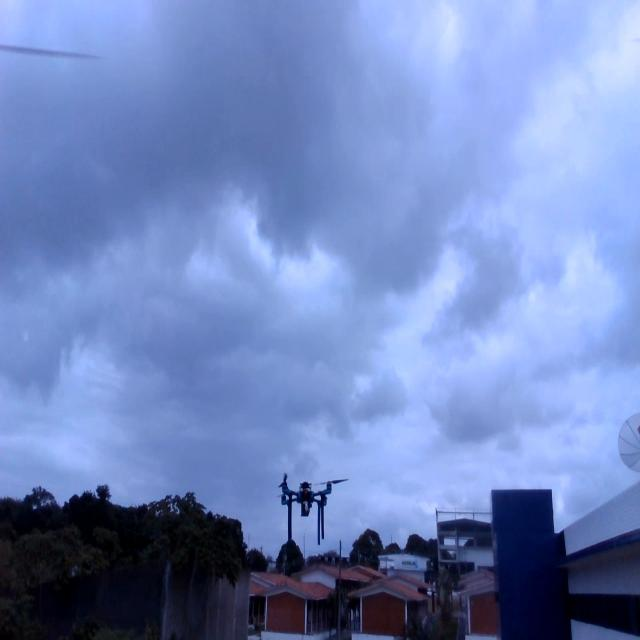-uav-: (273, 468, 354, 556)
